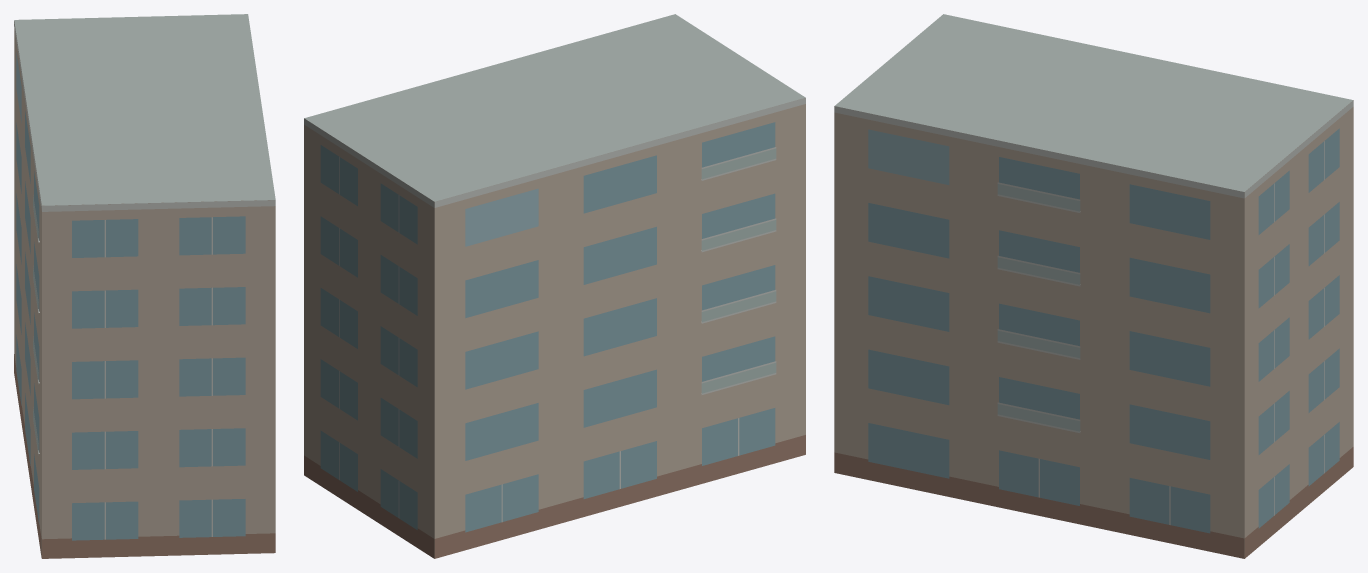
Rendered from survey-upis-32889241.glb.
3 views of the same model, side by side, from view 1: azimuth 30°, elevation 25°; view 2: azimuth 150°, elevation 25°; view 3: azimuth 270°, elevation 25° (orthographic). The views are drawn at different scales.
Visible parts, largest first — view 1: survey-upis-32889241.tmp; view 2: survey-upis-32889241.tmp; view 3: survey-upis-32889241.tmp.
Part boxes in pixels (bbox=[...]): survey-upis-32889241.tmp: bbox=[14, 14, 275, 558]; survey-upis-32889241.tmp: bbox=[304, 14, 805, 558]; survey-upis-32889241.tmp: bbox=[834, 14, 1353, 558].
Bounding box in the file's own units: 14.48 × 13.9 × 17.84.
